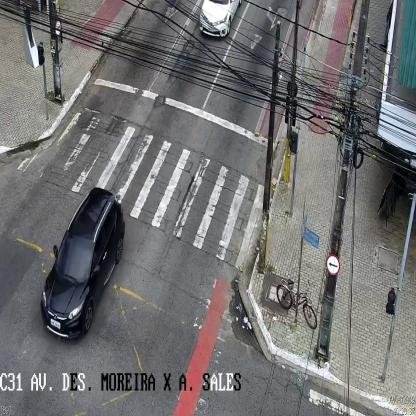bicycle: (275, 278, 317, 330)
car: (39, 186, 125, 338), (198, 0, 242, 41)
